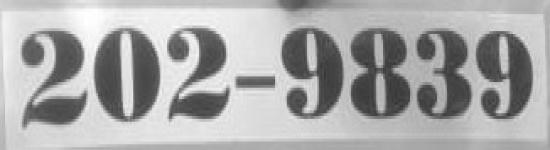-: (234, 60, 278, 103)
0: (92, 24, 163, 132)
2: (11, 21, 90, 136), (164, 21, 236, 132)
3: (410, 12, 474, 133)
8: (348, 15, 412, 133)
9: (276, 16, 348, 124), (474, 20, 536, 130)
